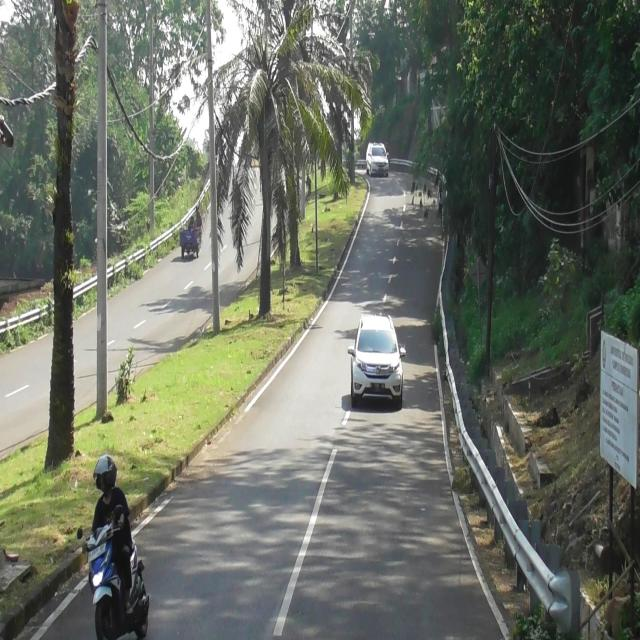motorcycle: (78, 521, 152, 639)
person: (91, 455, 136, 608)
rider_region: (78, 453, 154, 640)
